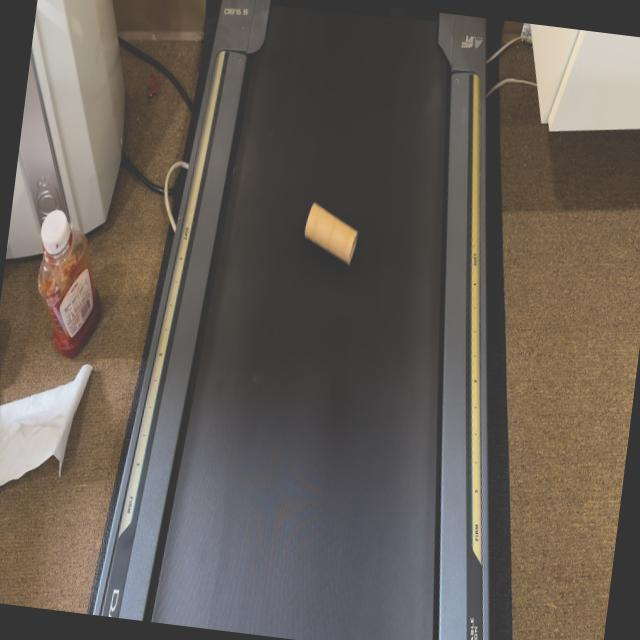Recycle: (299, 200, 362, 268)
